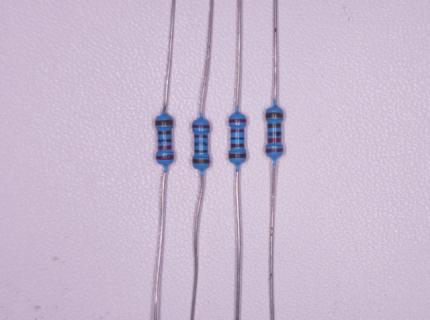Black band: (268, 131, 281, 137), (194, 142, 208, 146), (230, 137, 244, 140), (158, 140, 172, 143)
Brown band: (155, 120, 173, 125), (193, 159, 210, 164), (229, 154, 246, 159), (266, 113, 283, 118), (268, 123, 281, 128), (230, 144, 244, 148), (158, 131, 171, 135), (194, 150, 208, 153)
Red band: (156, 155, 174, 160), (266, 148, 283, 153), (192, 125, 210, 129), (229, 119, 246, 123), (268, 138, 281, 143), (158, 146, 172, 150), (231, 129, 244, 133), (194, 135, 208, 138)
